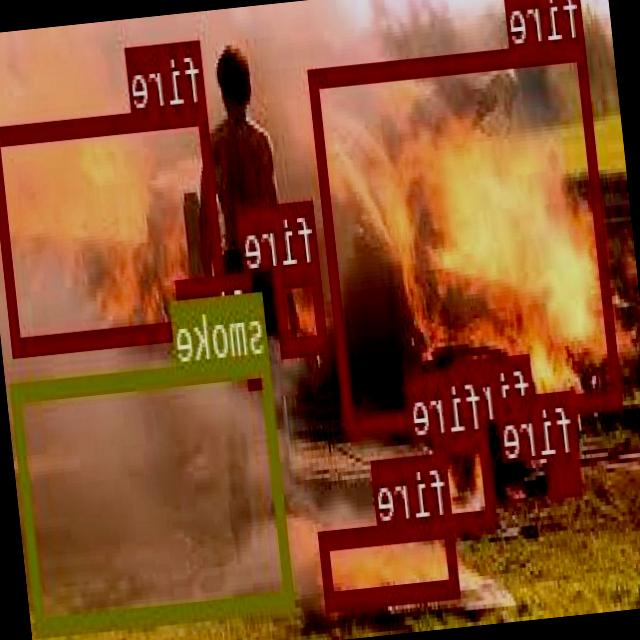fire: (310, 38, 624, 430), (0, 102, 230, 352), (320, 516, 460, 606), (436, 431, 498, 526), (274, 262, 328, 351), (549, 454, 582, 493), (247, 334, 262, 386), (518, 415, 540, 438)
smoke: (12, 356, 296, 634)
